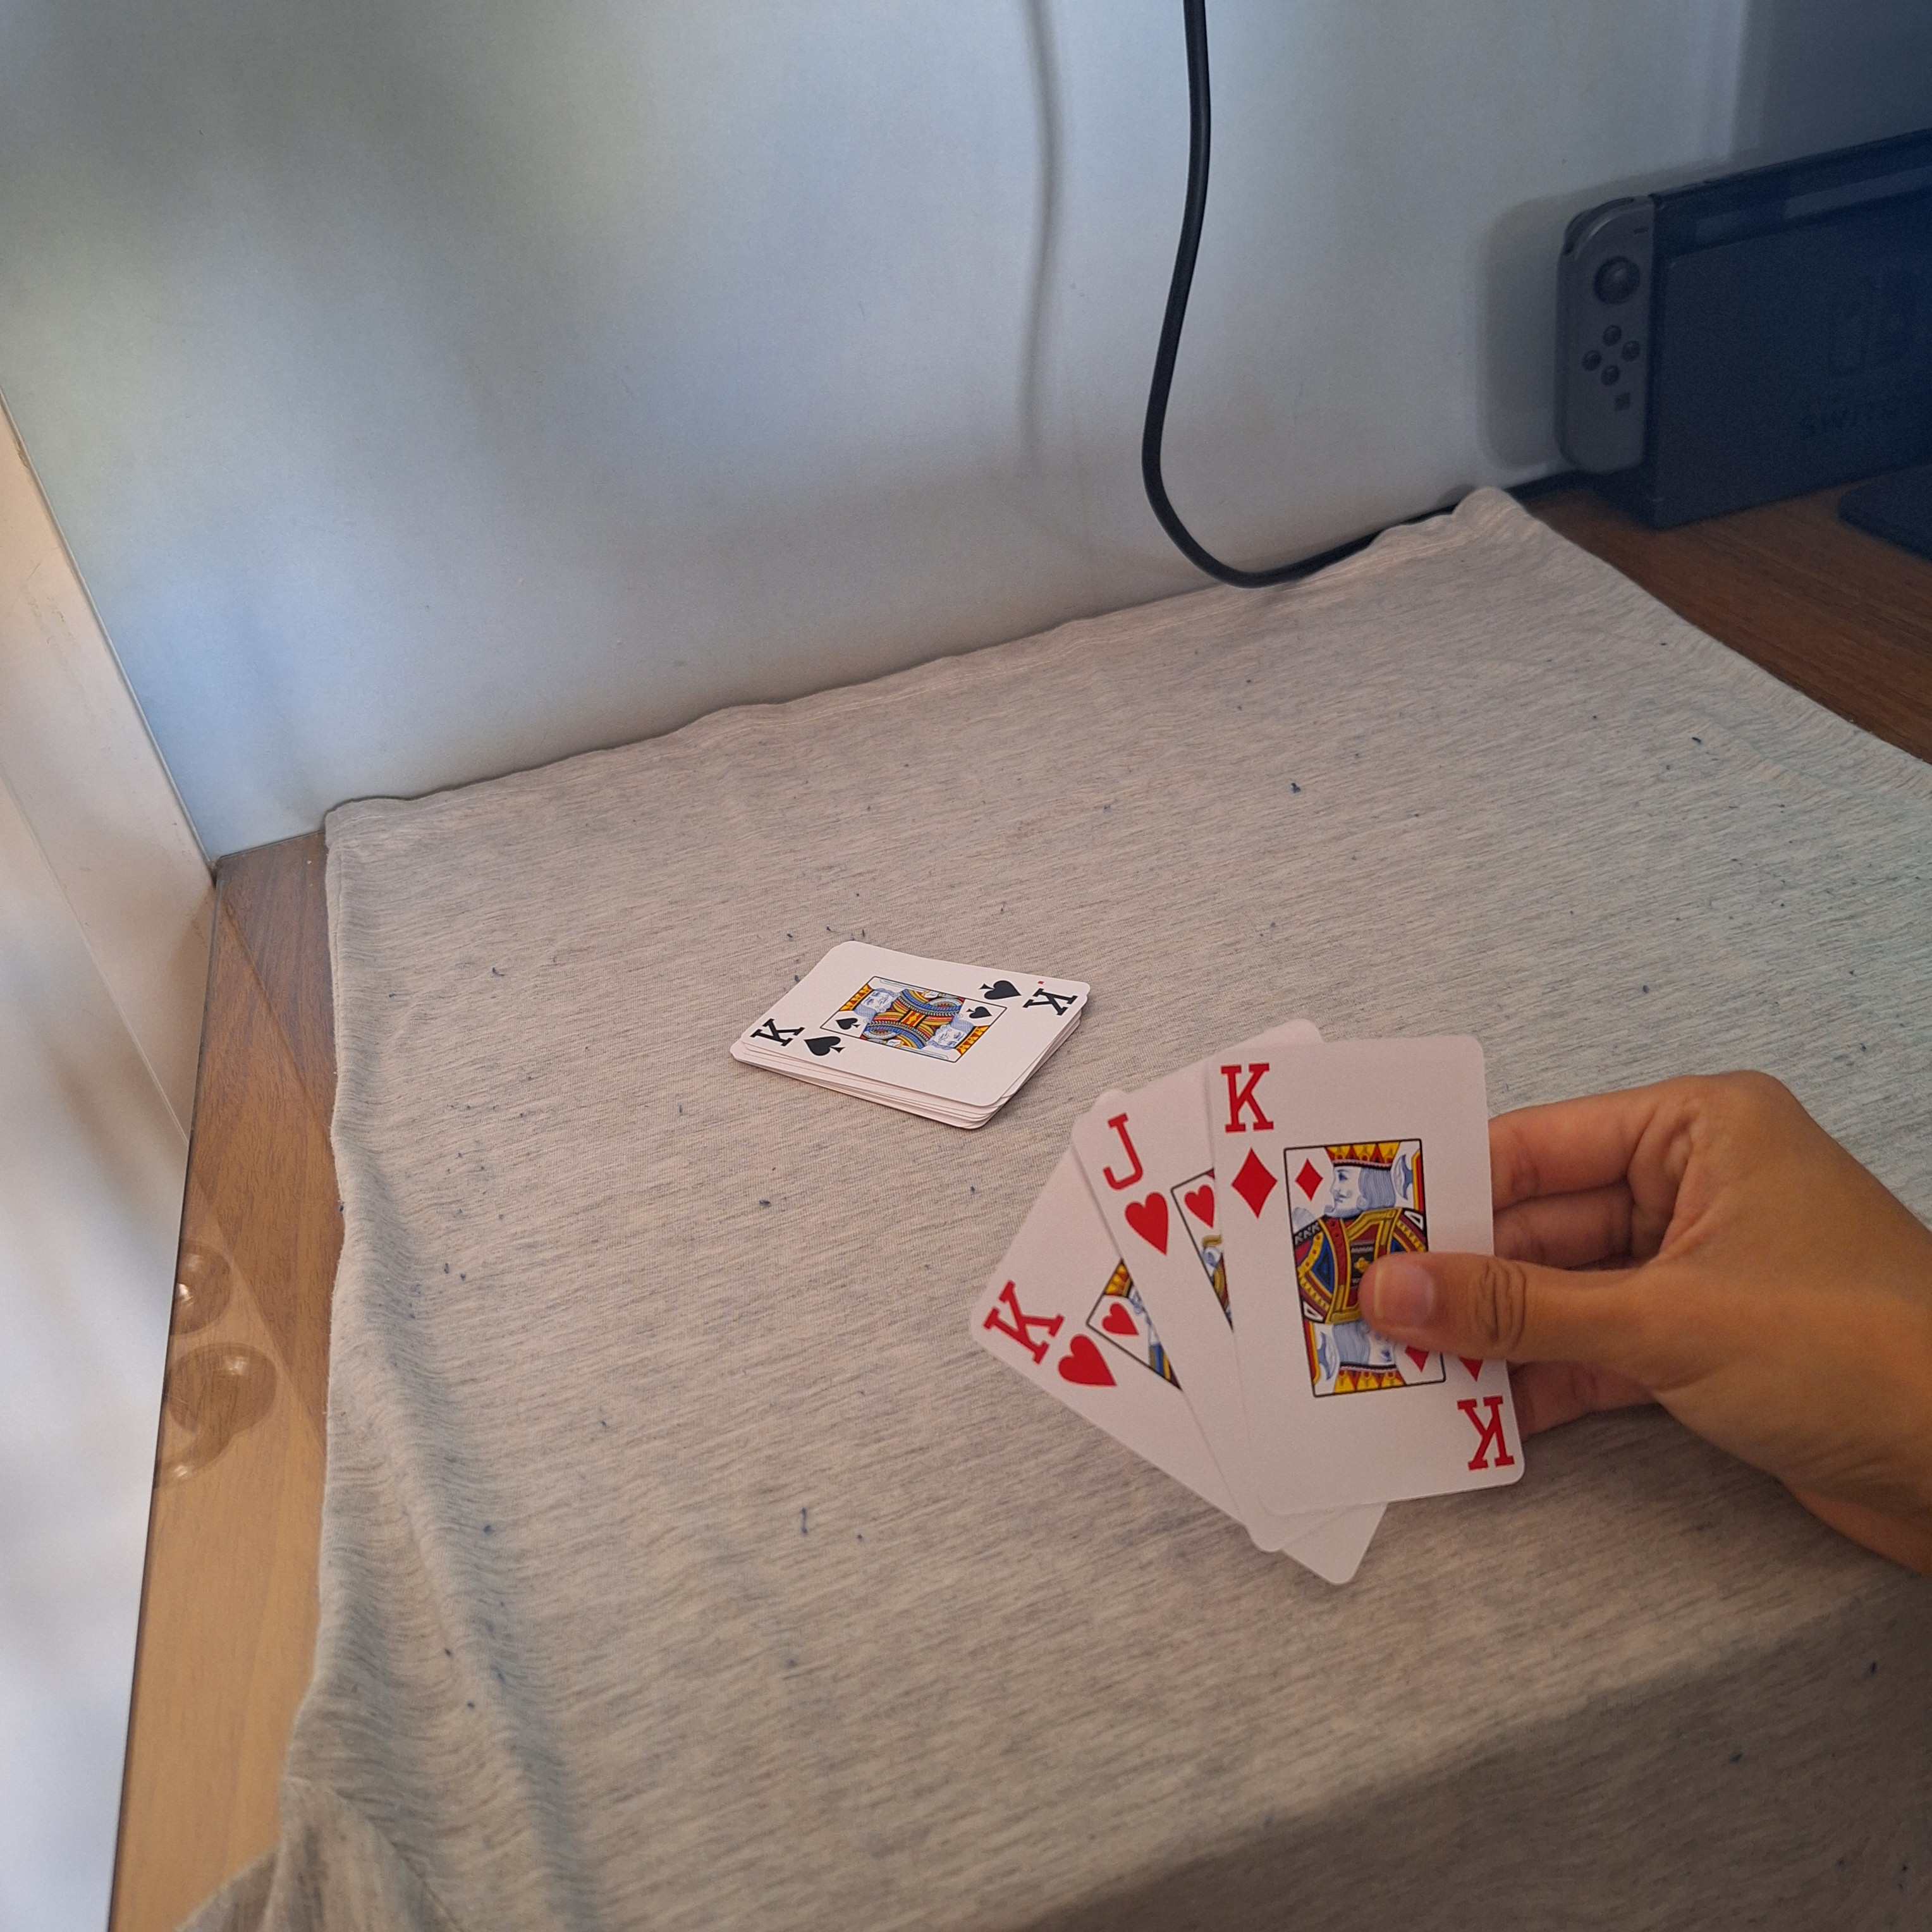JC: (1097, 1109, 1177, 1260)
KC: (975, 1276, 1120, 1398)
KE: (975, 973, 1081, 1021), (748, 1014, 846, 1062)
KO: (1214, 1056, 1288, 1226)
